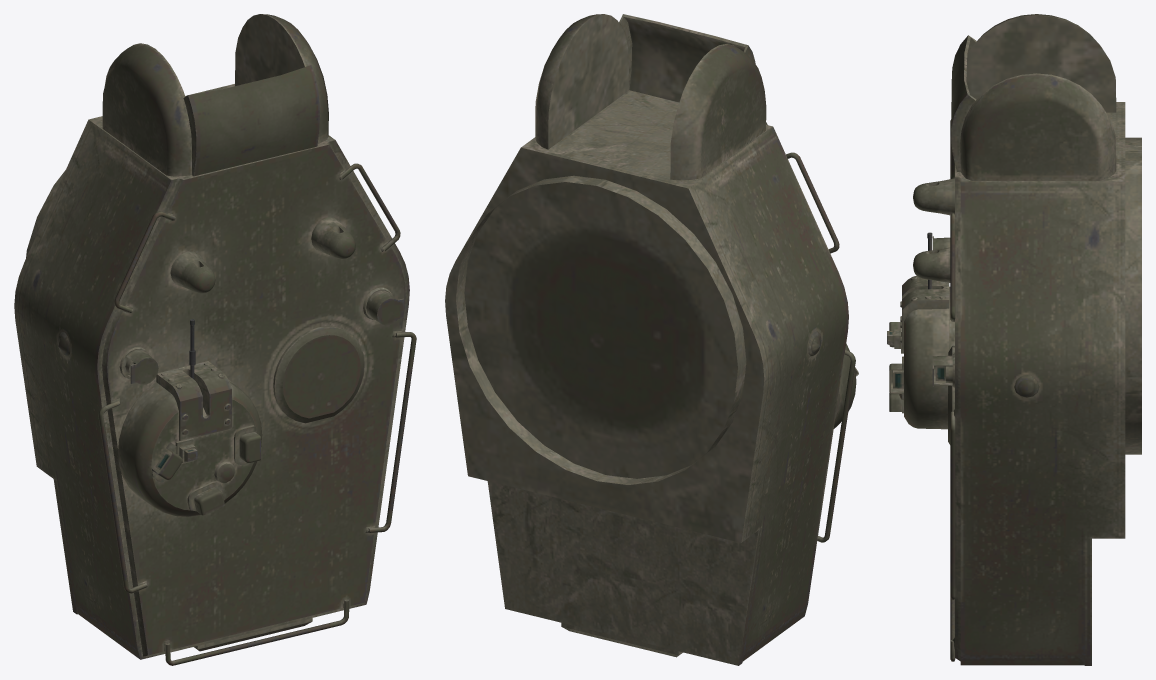
File: Turret_01.glb
The picture shows the model from 3 angles, left to right: view 1: azimuth 30°, elevation 25°; view 2: azimuth 150°, elevation 25°; view 3: azimuth 270°, elevation 25°; orthographic projection. The views are drawn at different scales.
Visible parts, largest first — view 1: set_0_group_0; view 2: set_0_group_0; view 3: set_0_group_0.
Boxes of the visible parts, x1,y1,x2,y2 form: set_0_group_0: (14,14,416,665); set_0_group_0: (445,14,858,665); set_0_group_0: (887,14,1141,665).
Size of the model in its own units: 2.05 by 3.57 by 1.41.
Materials: 1 (1 with a texture image).
